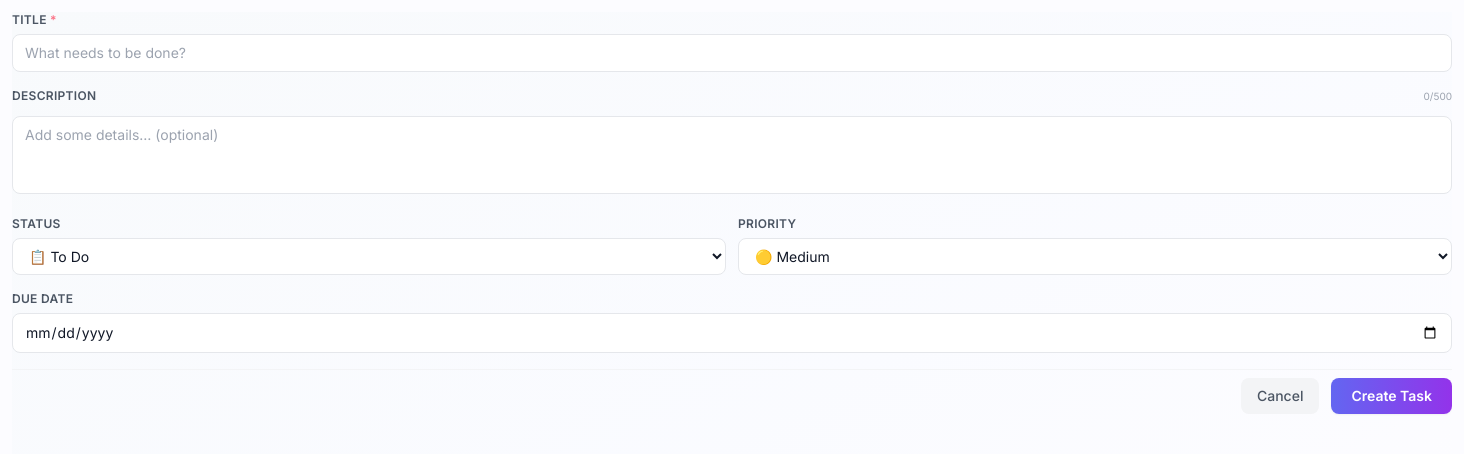
Title validation (Req 11.4) › shows an error when title is empty and blocks submit
The image size is (1464, 454).
Click the button "Create Task".
click(1392, 396)  # box [1331,378,1452,414]
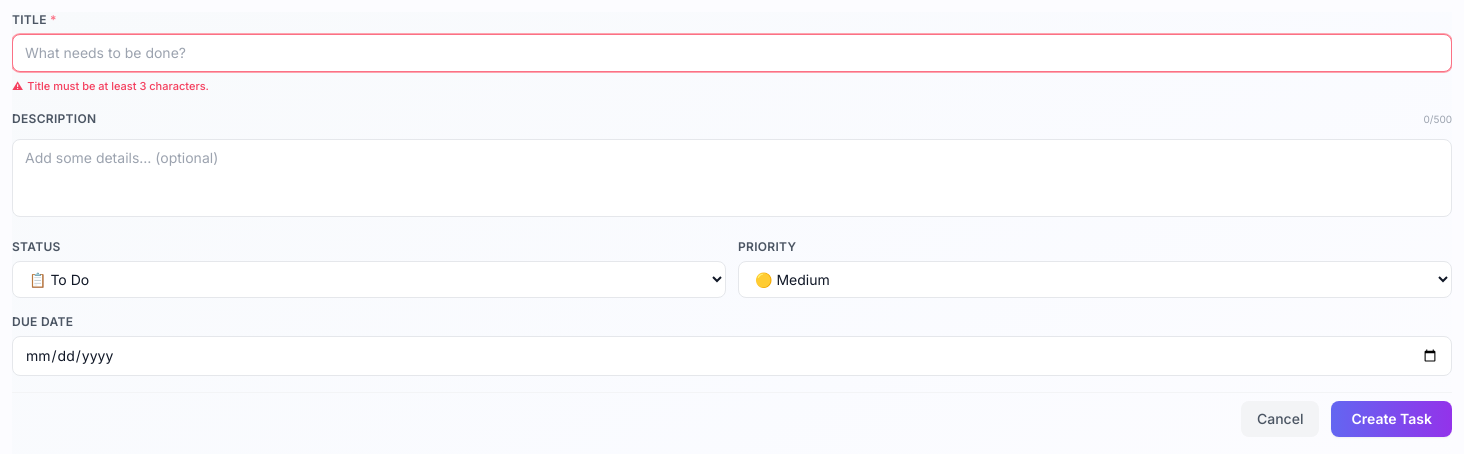
Now the message shows "Title must be at least 3 characters", box [27,79,209,93]
